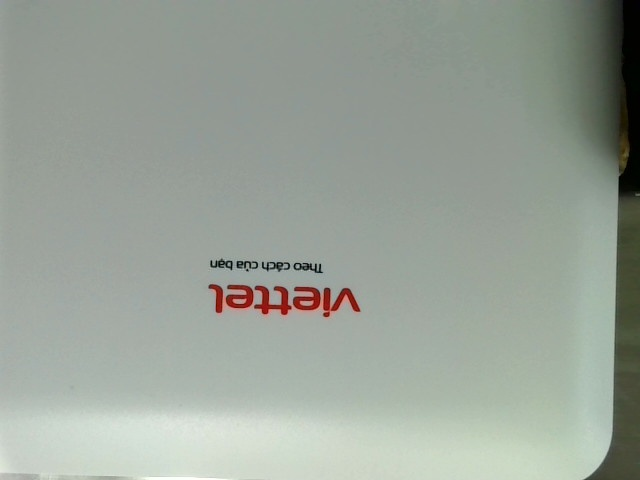AY_Viettel: (206, 253, 370, 319)
